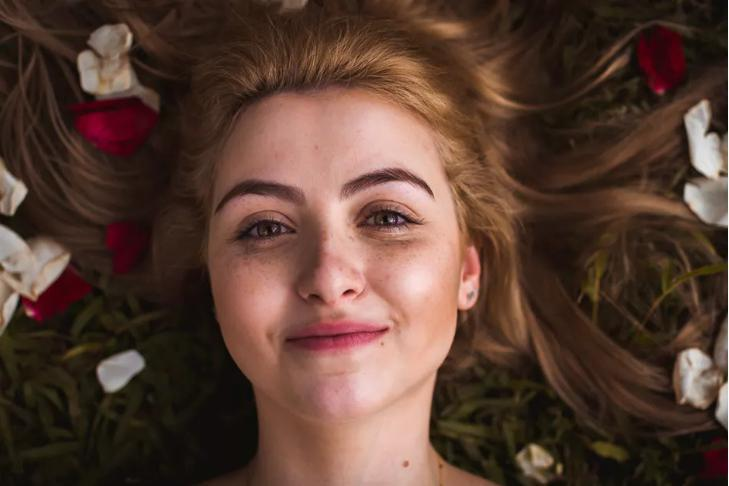face: (206, 91, 462, 414)
